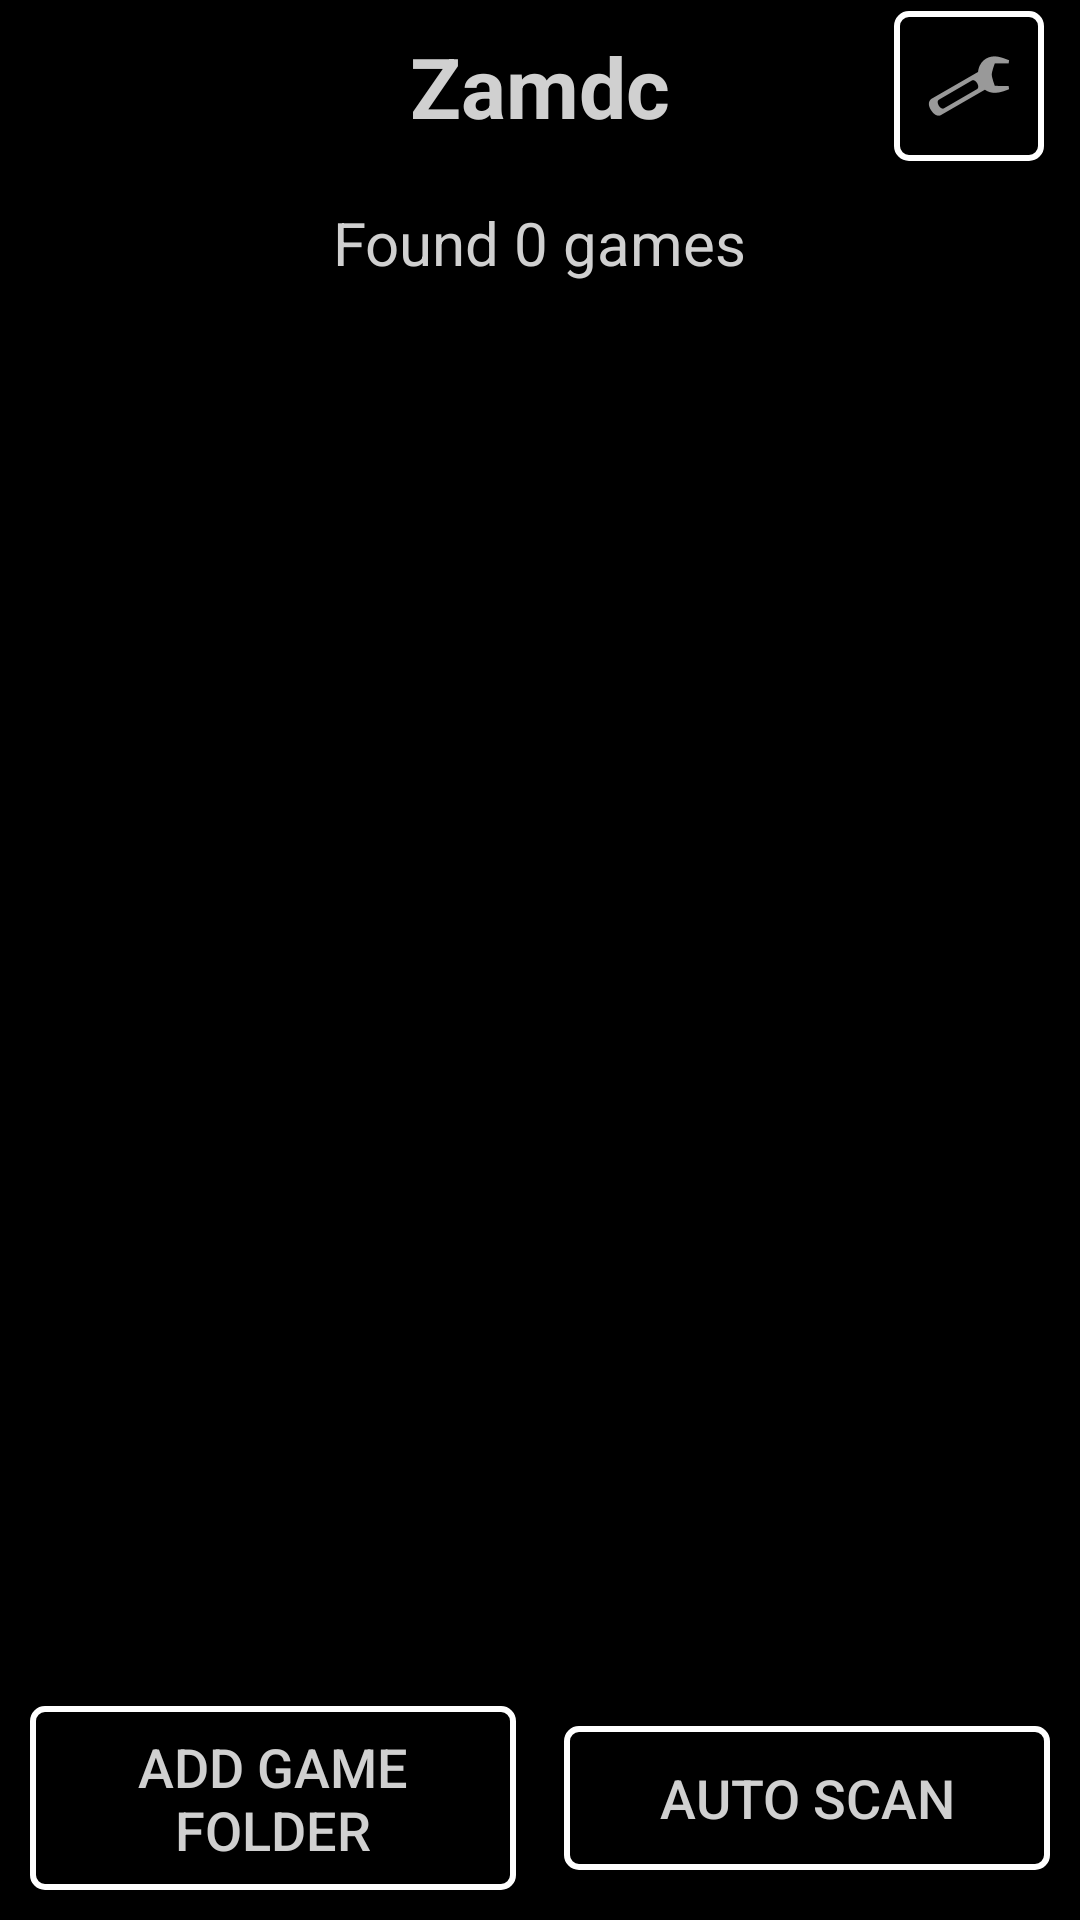

Where icons sit on this 1080 x 1920 app screen, as detection(x1, y1, x2, y2):
Settings: detection(894, 11, 1044, 161)
